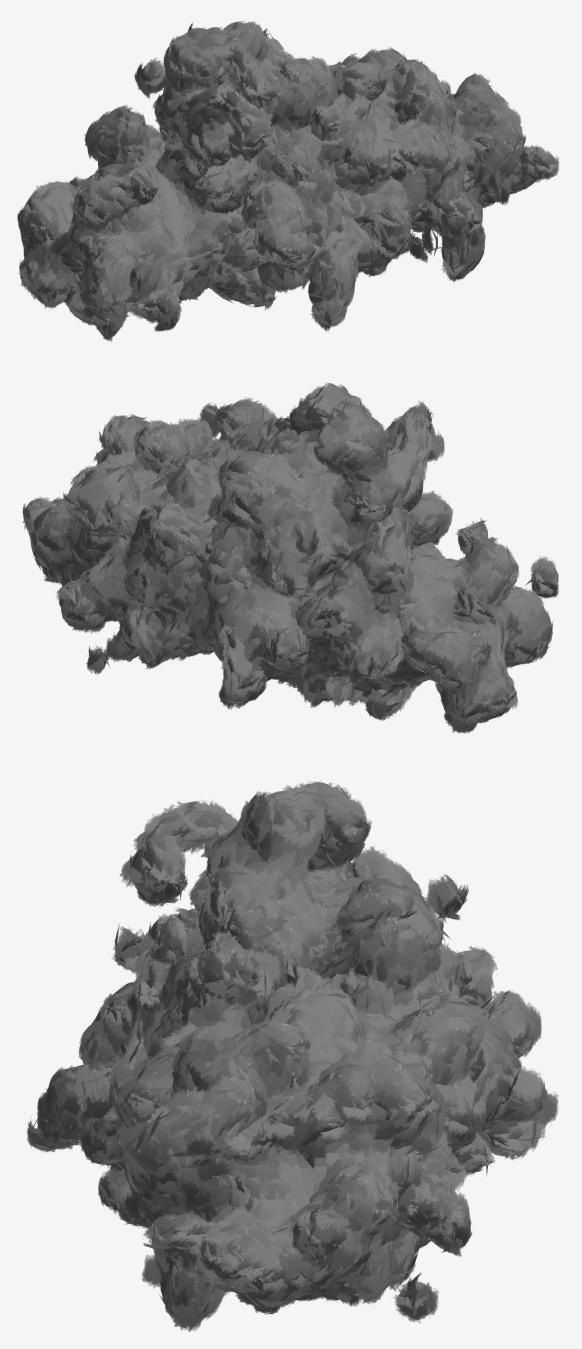
File: cloud2.glb
The picture shows the model from 3 angles, top to bottom: view 1: azimuth 30°, elevation 25°; view 2: azimuth 150°, elevation 25°; view 3: azimuth 270°, elevation 25°; orthographic projection. The views are drawn at different scales.
Visible parts, largest first — view 1: Cloud GN.001; view 2: Cloud GN.001; view 3: Cloud GN.001.
Boxes of the visible parts, <box> form: Cloud GN.001: <box>17,21,559,341</box>; Cloud GN.001: <box>22,383,558,733</box>; Cloud GN.001: <box>27,781,558,1331</box>.
Size of the model in its own units: 11.15 by 6.39 by 7.58.
1 material, 1 textured.
